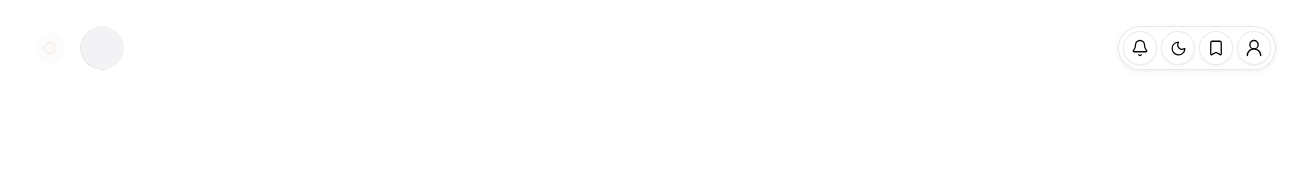
Test: Sidebar (cabeçalho PillNav) › alertas sem suporte do navegador: avisa
This screenshot has width=1292, height=172.
What coordinates should you click on to do the following:
click the button named "Alertas"
I would click on:
 (1140, 48)
Its box is left=1123, top=31, right=1157, bottom=65.
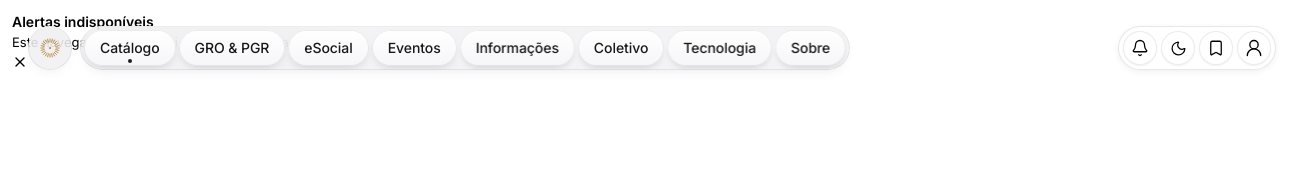
Check: the message shows "não possui suporte", box left=12, top=34, right=322, bottom=50
